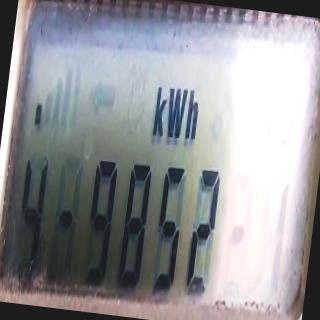-: (56, 203, 76, 234), (34, 96, 45, 130)
2: (181, 158, 226, 304)
4: (9, 144, 54, 278)
5: (146, 158, 193, 302)
8: (112, 154, 159, 298)
9: (78, 152, 122, 293)
